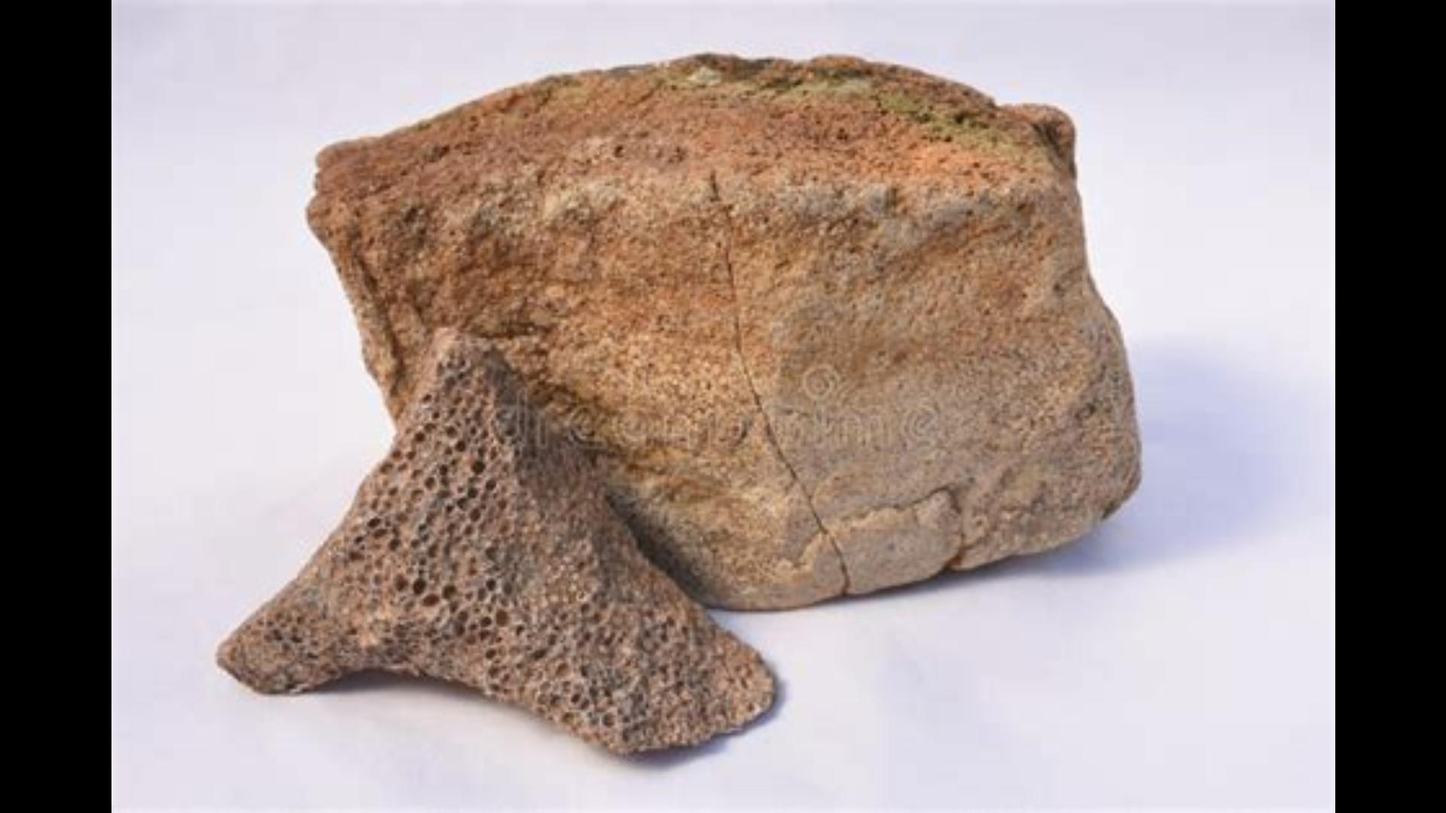rock: (222, 57, 1136, 746)
